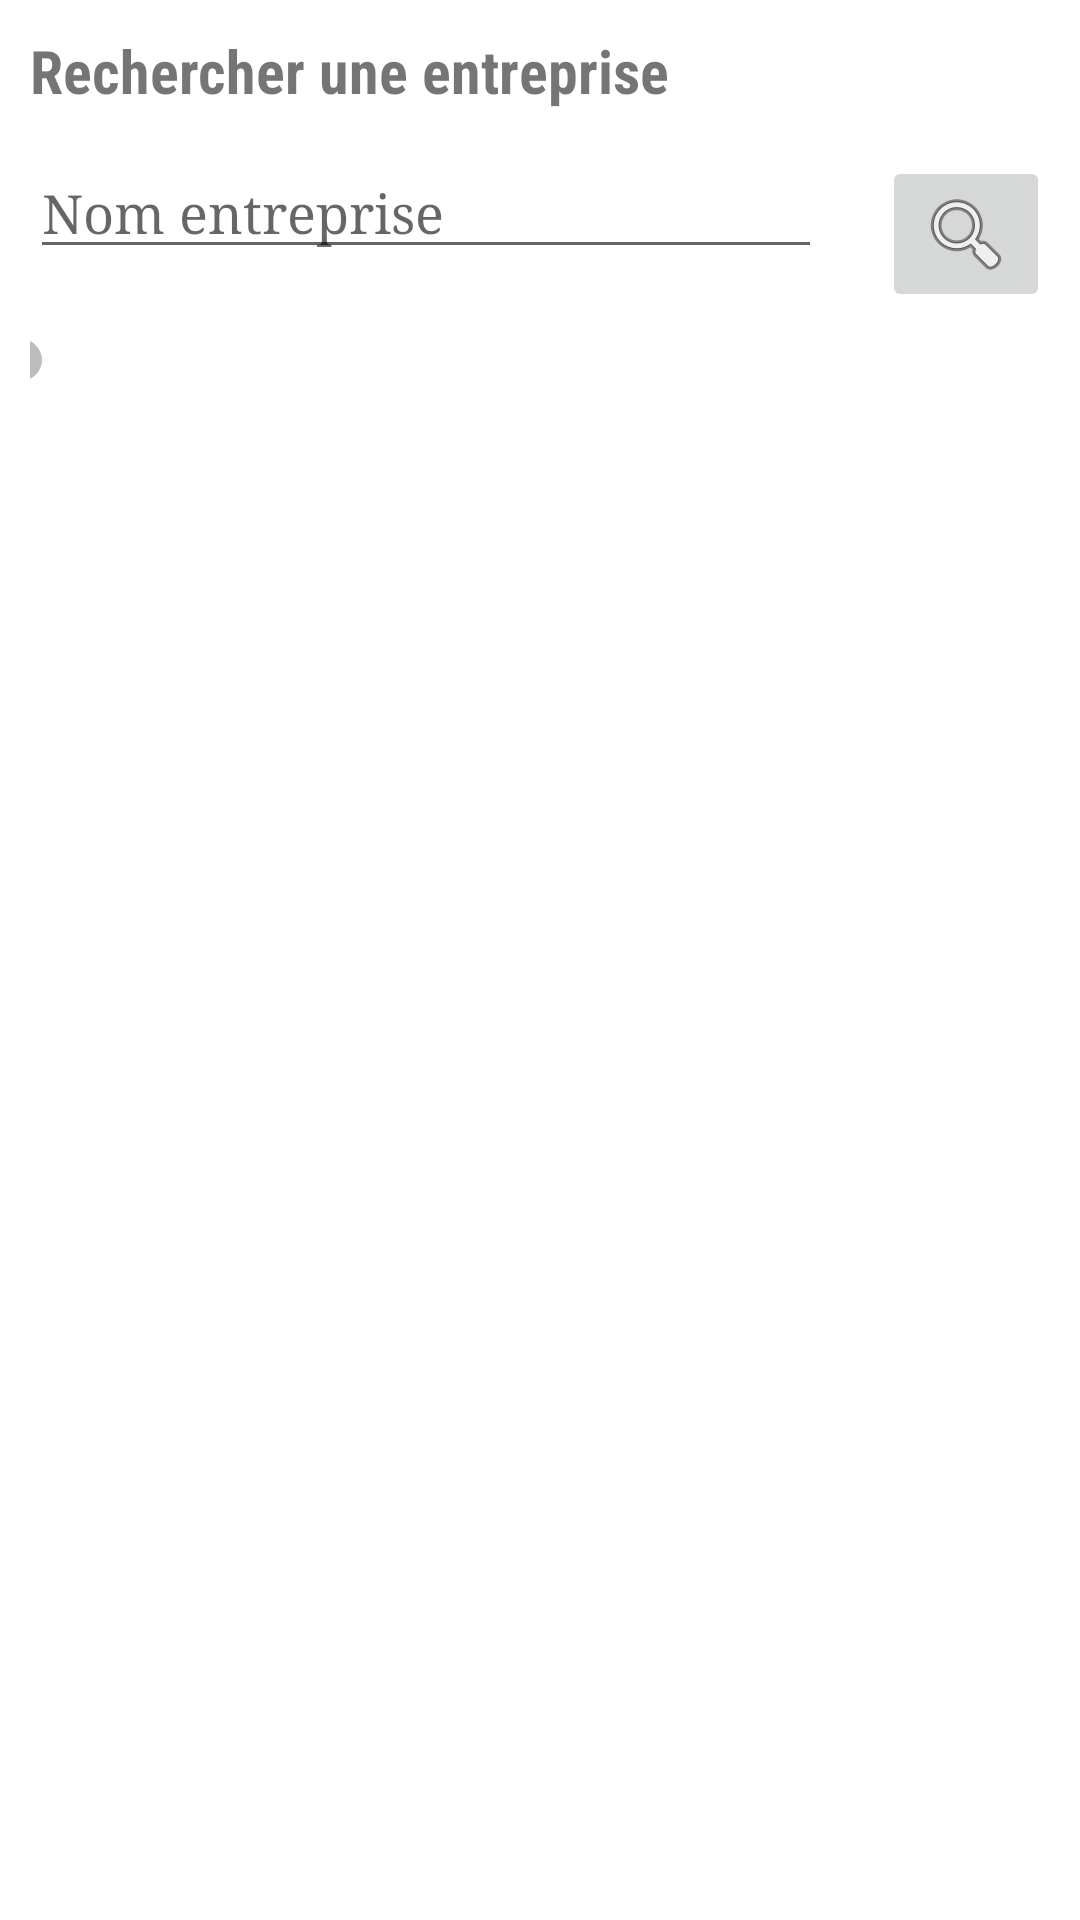

Icon bounding boxes for this 1080*1920 phone screenshot, format (left=x1, top=y1, right=x2, bottom=y2):
search: (left=894, top=174, right=1038, bottom=294)
